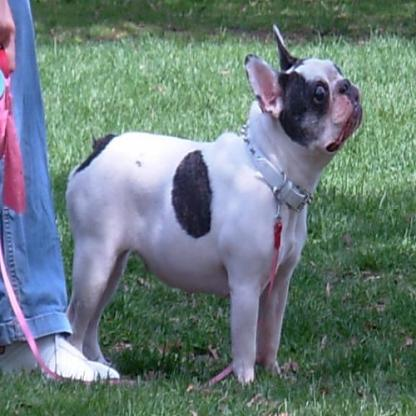French_bulldog: (60, 18, 364, 385)
